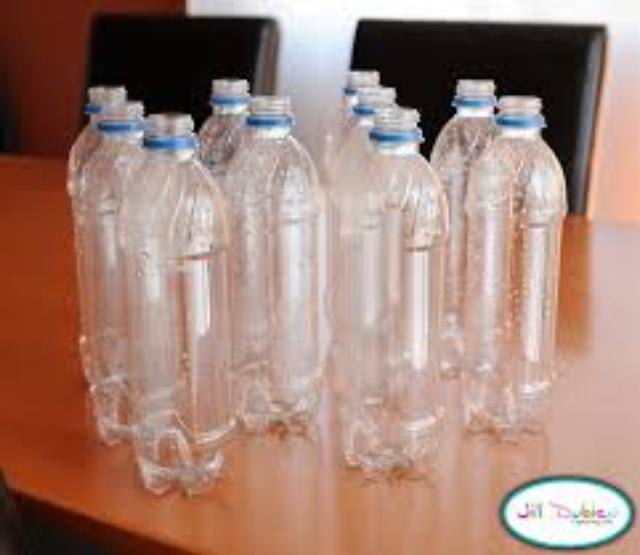plastic: (66, 69, 560, 489), (459, 170, 467, 366)
